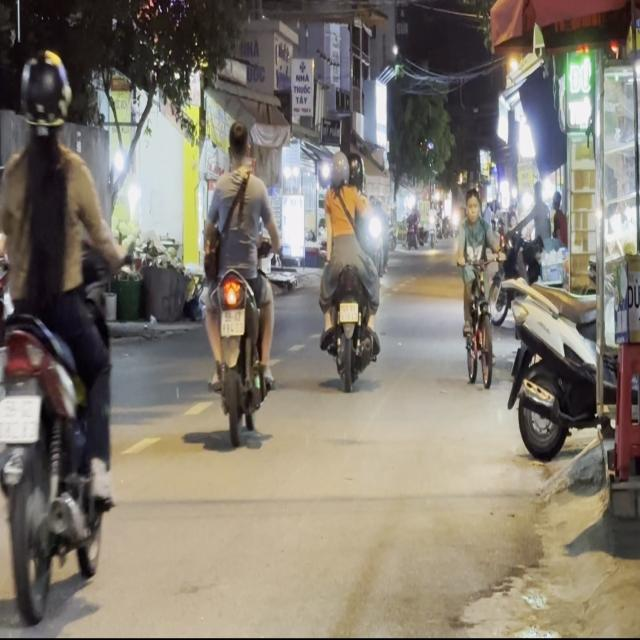helmet: (18, 49, 70, 143), (330, 150, 349, 186), (346, 153, 362, 187)
licenseplate: (0, 46, 122, 616), (200, 115, 278, 440), (315, 148, 385, 388)
motorcyclist: (225, 118, 251, 167)
nohelmet: (0, 395, 39, 441), (220, 308, 244, 335), (339, 302, 358, 321)
